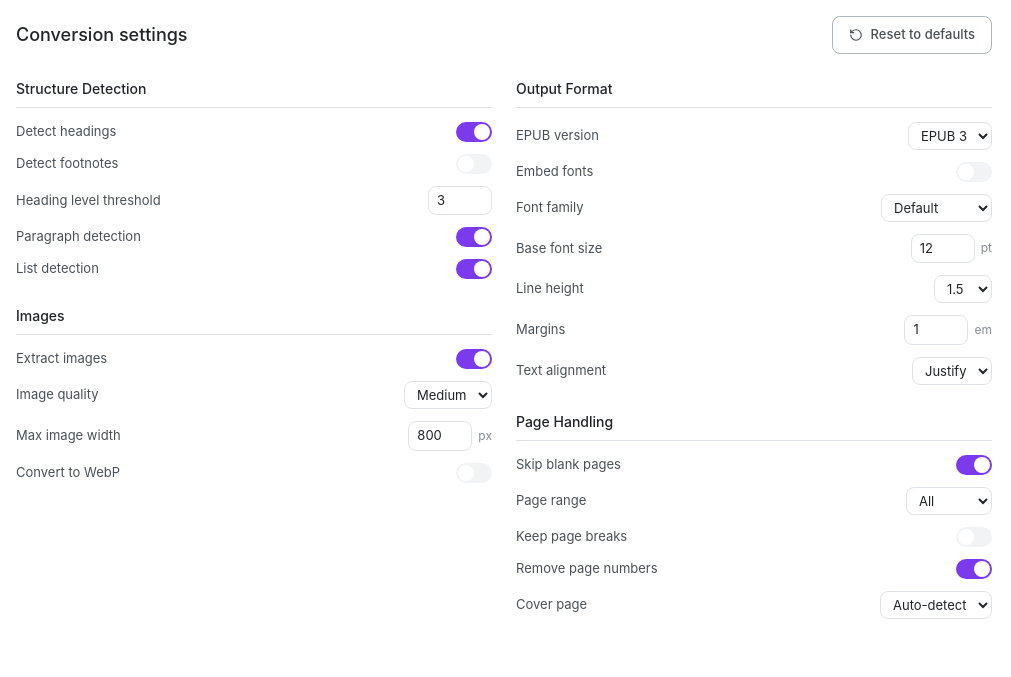
Test: SettingsScreen › selecting "All" page range hides From/To inputs
Select "Custom" in the dropdown showing "All" in the row of "Page range": (949, 500) [906,486,992,514]
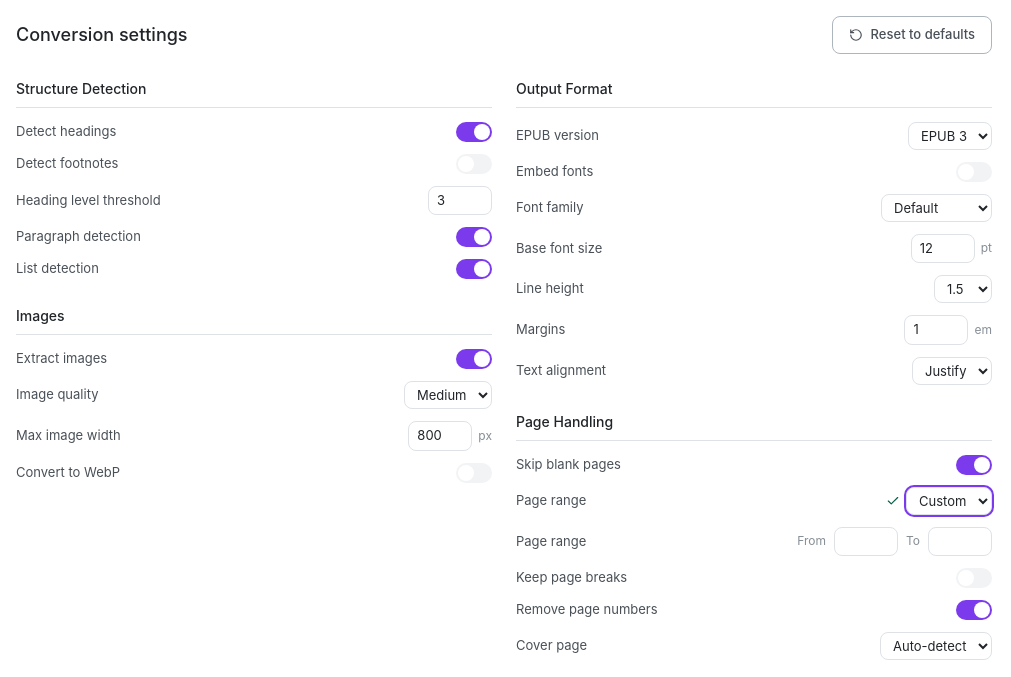
Expected: the text "From" is shown, [797,532,826,550]
Select "All" in the 6th dropdown showing "All": (949, 500) [906,486,992,514]
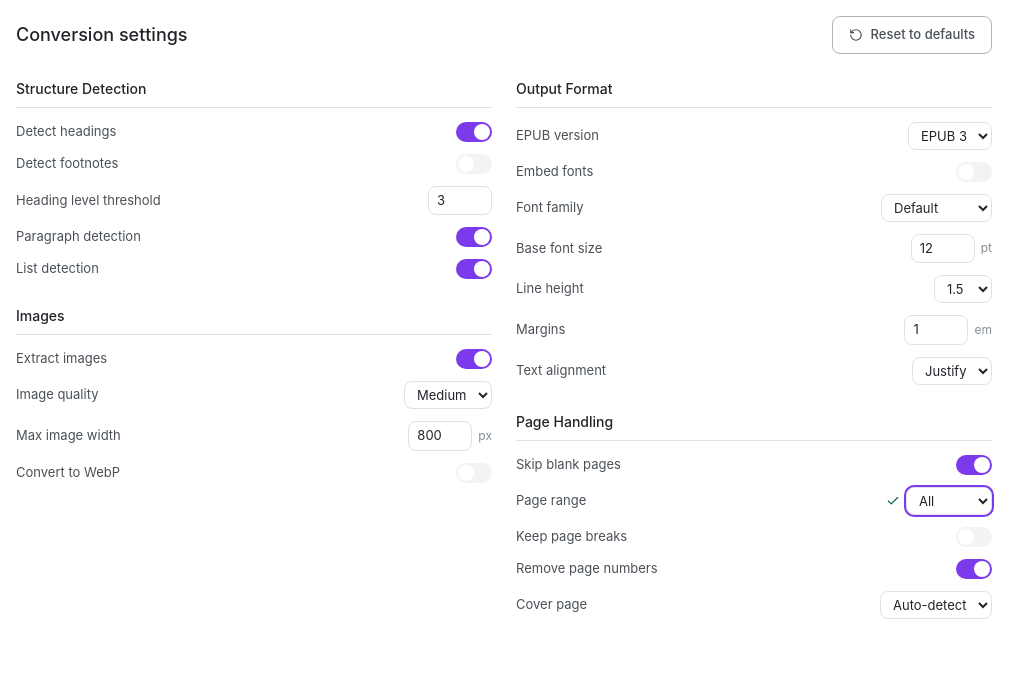
Expected: the text "From" is gone
